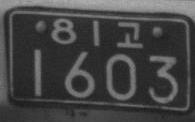0: (105, 52, 137, 101)
1: (23, 49, 53, 96), (84, 19, 108, 46)
3: (148, 55, 179, 104)
6: (64, 51, 96, 99)
8: (50, 17, 77, 45)
고: (116, 21, 142, 49)
